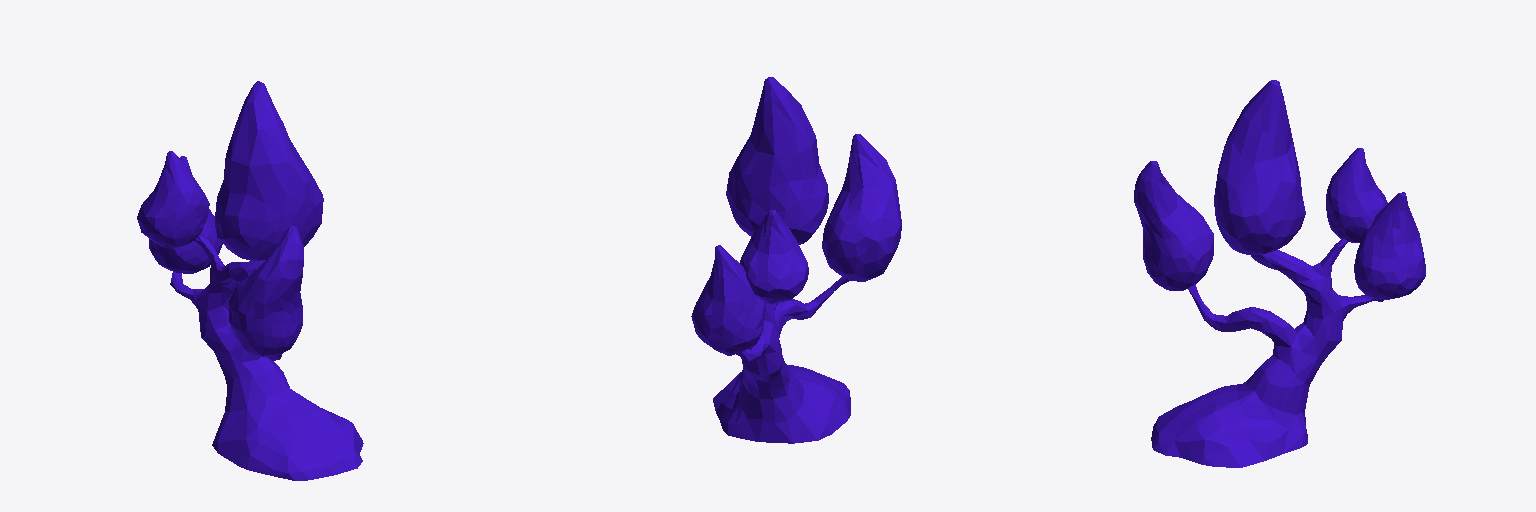
Rendered from fabulous_mushroom_002.obj.
The picture shows the model from 3 angles: view 1: azimuth 30°, elevation 25°; view 2: azimuth 150°, elevation 25°; view 3: azimuth 270°, elevation 25°; orthographic projection.
Parts seen in each view (by area): view 1: fabulous_mushroom_002; view 2: fabulous_mushroom_002; view 3: fabulous_mushroom_002.
Part boxes in pixels (x1,y1,x2,y2): fabulous_mushroom_002: (137,81,363,480); fabulous_mushroom_002: (691,77,901,443); fabulous_mushroom_002: (1134,80,1425,467).
Bounding box in the file's own units: 4.35 × 9.75 × 7.34.